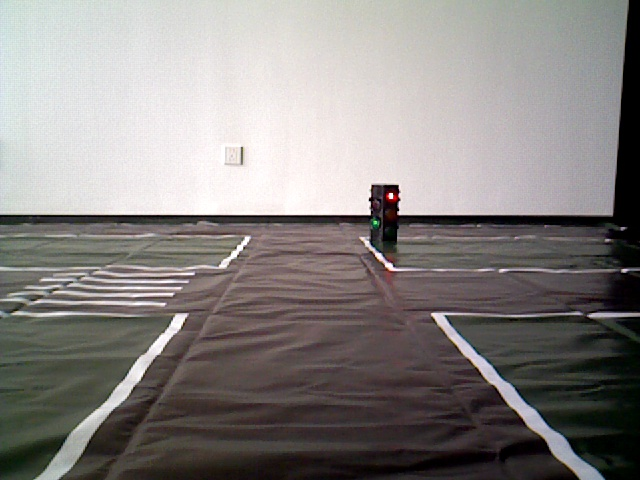red: (370, 187, 396, 249)
